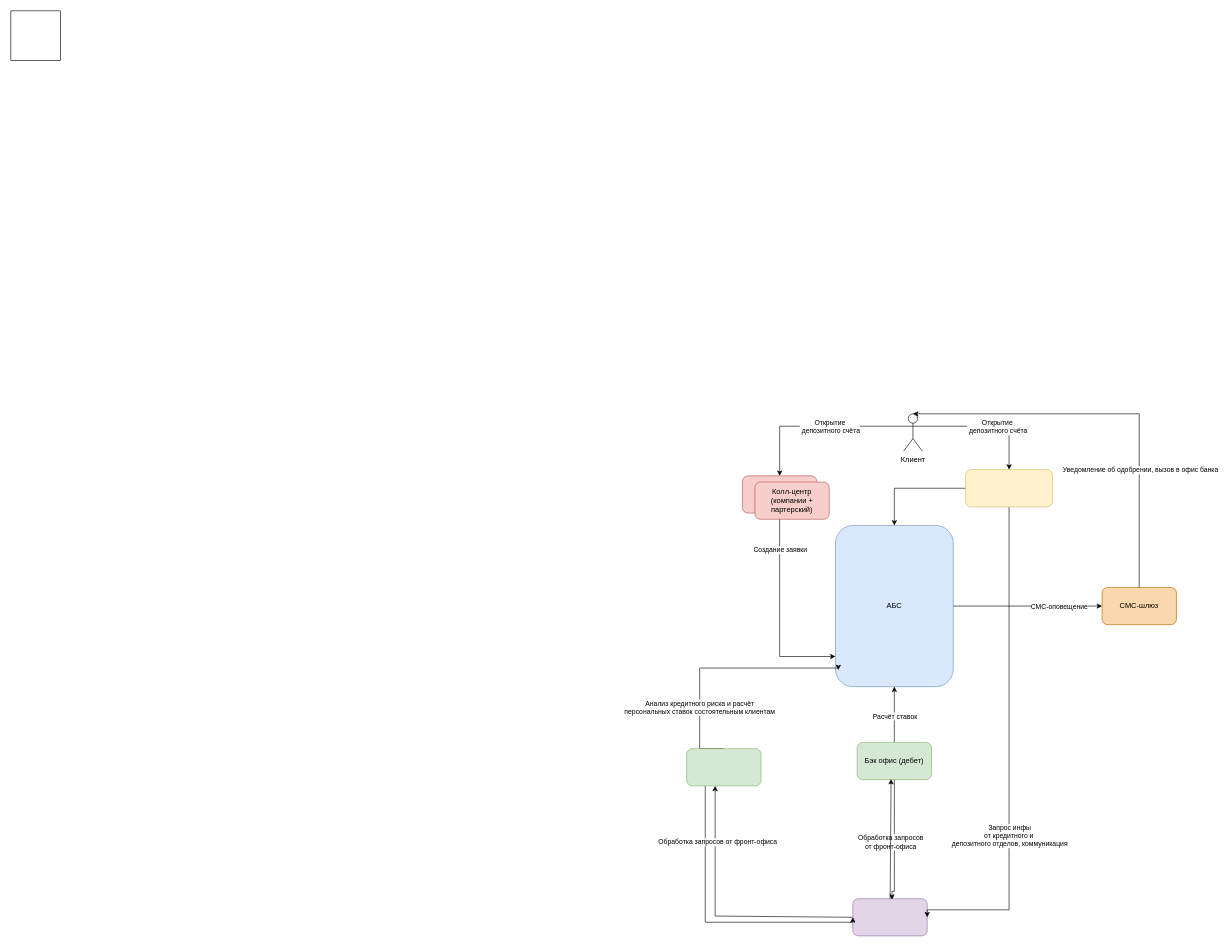
Image size: 1229x947. Some labels were removed from this diagram. Each missing label, with the centre of its shape:
"Бэк офис (кредит)" goes at (x=723, y=767).
"Почтовый сервер" goes at (x=889, y=917).
"Фронт-Офис" goes at (x=1008, y=488).
